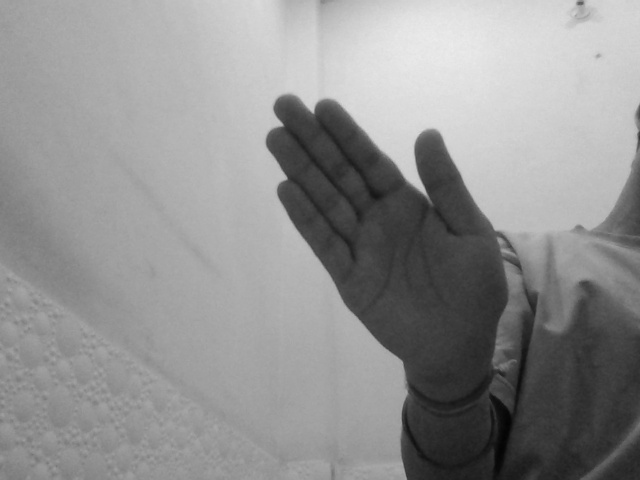Hello: (262, 94, 510, 378)
